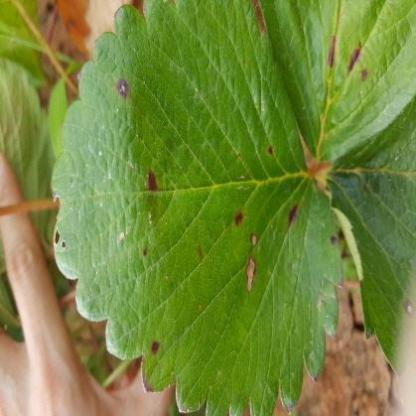Strawberry_Leaf_Spot: (50, 0, 346, 415), (319, 94, 415, 380), (257, 0, 415, 161)
